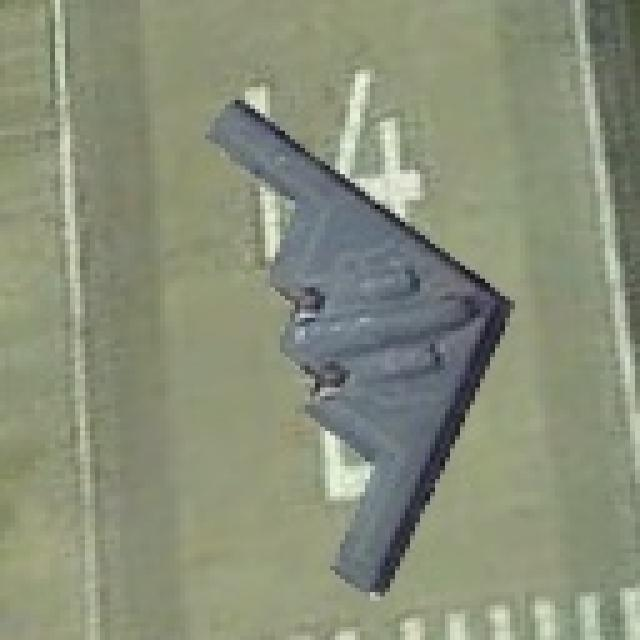B-2_TopDown: (195, 69, 515, 596)
